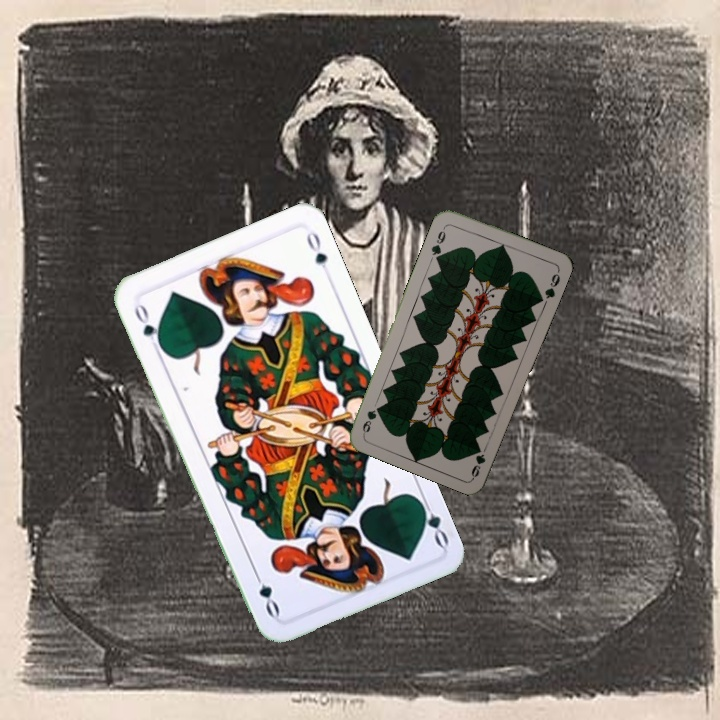G9: (427, 222, 449, 262), (467, 443, 488, 480)
GO: (413, 492, 452, 550), (130, 298, 165, 355)
